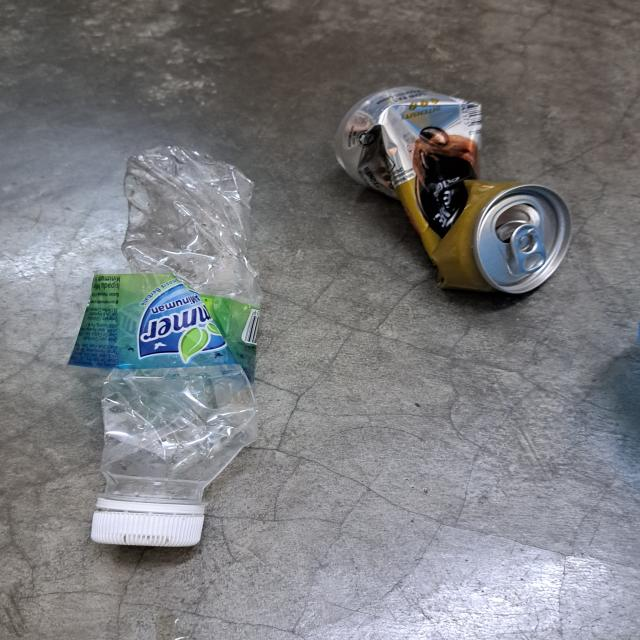can: (332, 84, 572, 295)
plastic bottle: (68, 143, 264, 504)
plastic bottle cap: (90, 510, 206, 546)
pop tab: (512, 224, 546, 274)
